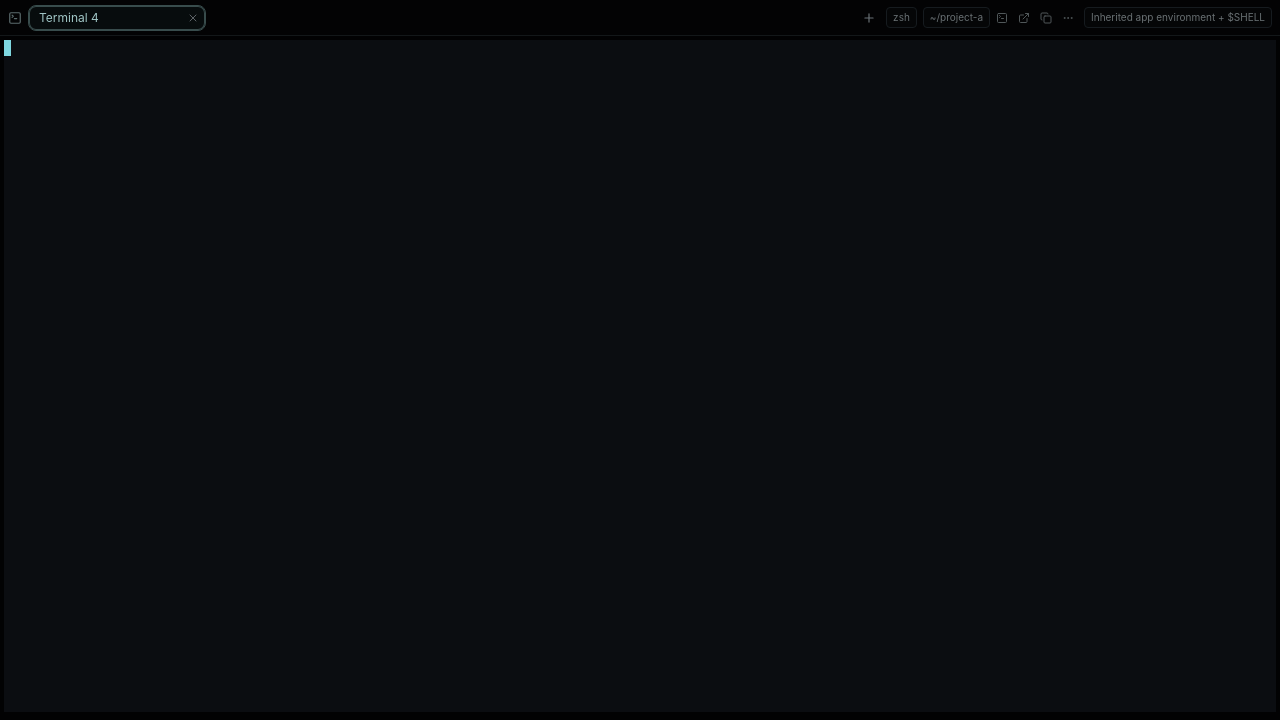
Scenario: shows recovery guidance when copying the terminal cwd fails
Click the button named "Copy terminal cwd POSIX path" at (1046, 18), box [1036,8,1056,28]
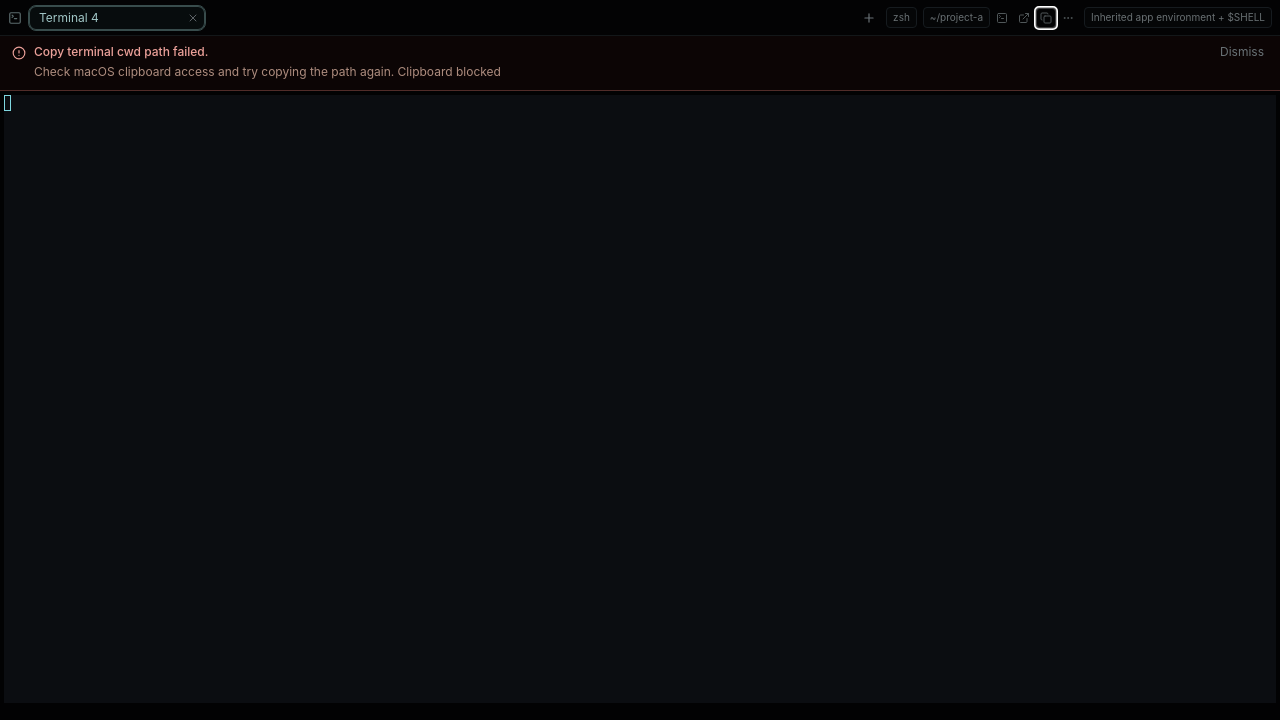
Expected: the text "Copy terminal cwd path failed." is shown, [34,44,208,59]
Expected: the text "Clipboard blocked" is shown, [34,64,501,79]
